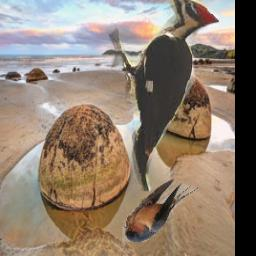Swallow: (123, 180, 199, 242)
Woodpecker: (108, 0, 219, 192)
